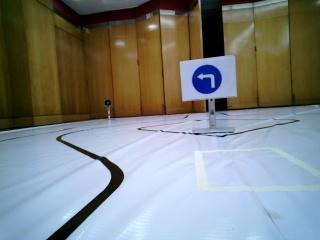left: (191, 59, 226, 94)
